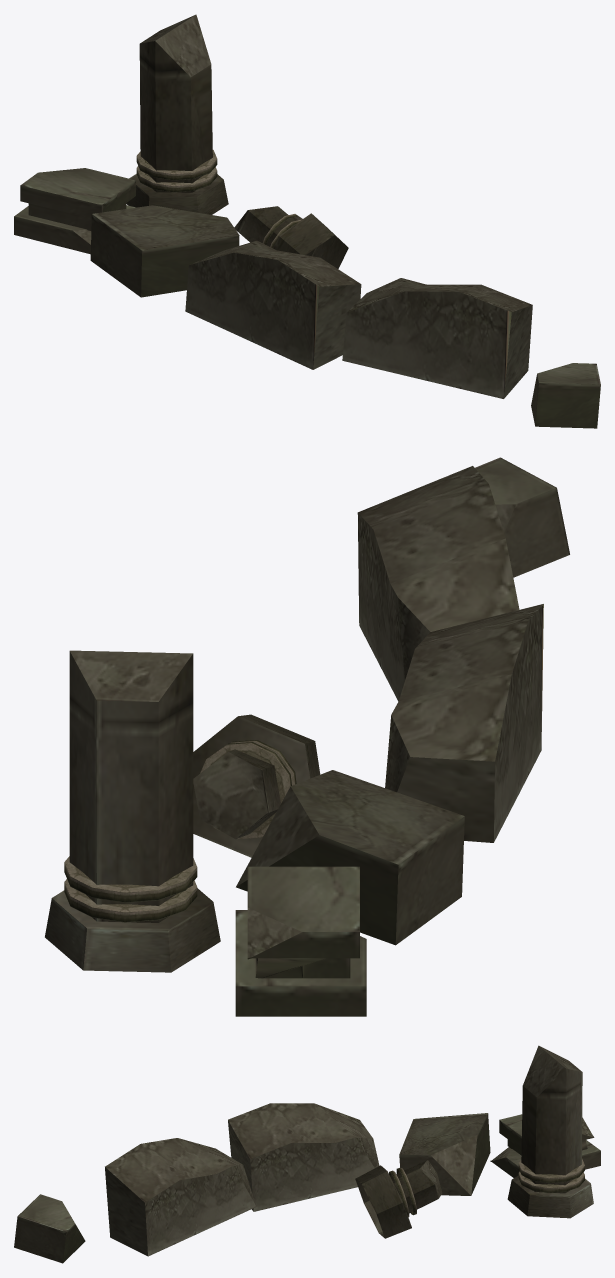
The picture shows the model from 3 angles, top to bottom: view 1: azimuth 30°, elevation 25°; view 2: azimuth 150°, elevation 25°; view 3: azimuth 270°, elevation 25°; orthographic projection. The views are drawn at different scales.
Parts seen in each view (by area): view 1: fx_wj9; view 2: fx_wj9; view 3: fx_wj9.
Boxes of the visible parts, <box> form: fx_wj9: <box>14,14,600,428</box>; fx_wj9: <box>45,457,569,1016</box>; fx_wj9: <box>14,1045,600,1263</box>.
Bounding box in the file's own units: 320 × 224 × 708.
Materials: 1 (1 with a texture image).
